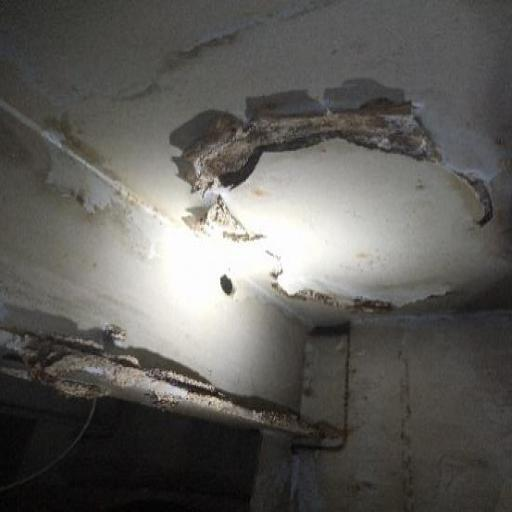Detect-rust-on-metal-surfaces: (169, 85, 498, 259), (4, 311, 336, 455), (259, 251, 399, 328)
